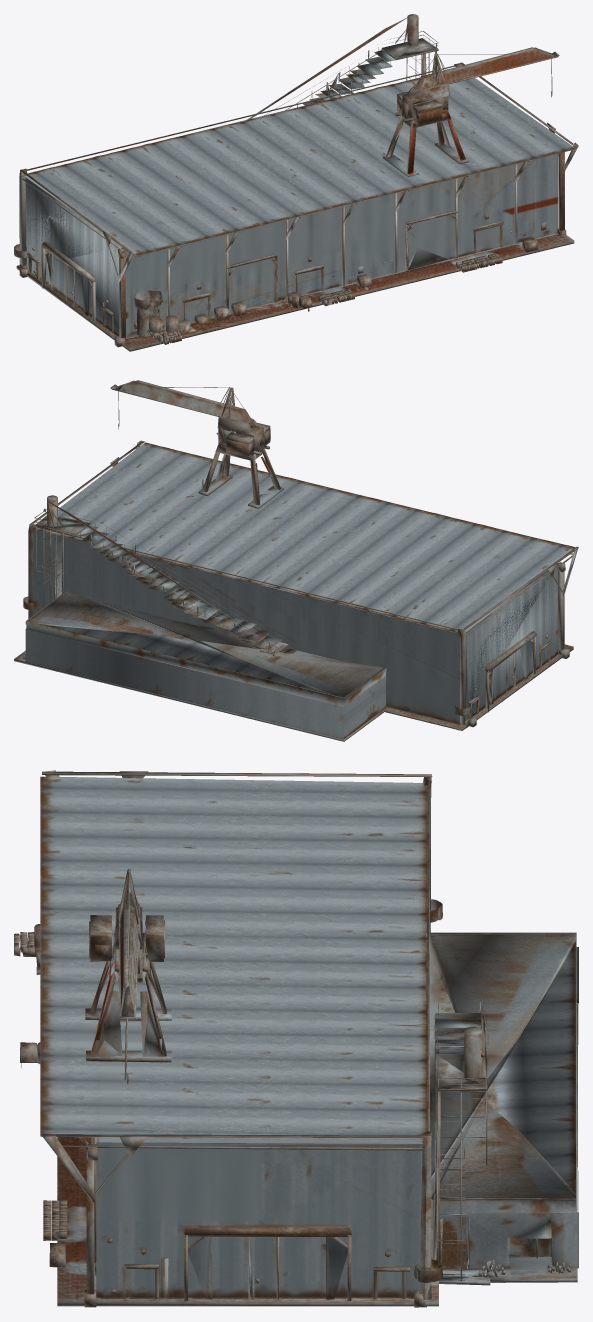
File: prop_warehouse.glb
The picture shows the model from 3 angles, top to bottom: view 1: azimuth 30°, elevation 25°; view 2: azimuth 150°, elevation 25°; view 3: azimuth 270°, elevation 25°; orthographic projection. The views are drawn at different scales.
Parts seen in each view (by area): view 1: Mesh_0; view 2: Mesh_0; view 3: Mesh_0.
Boxes of the visible parts, x1,y1,x2,y2 form: Mesh_0: [14, 14, 578, 351]; Mesh_0: [14, 380, 578, 741]; Mesh_0: [14, 770, 578, 1307].
Bounding box in the file's own units: 0.9521 × 0.4067 × 0.6104.
Materials: 1 (1 with a texture image).
